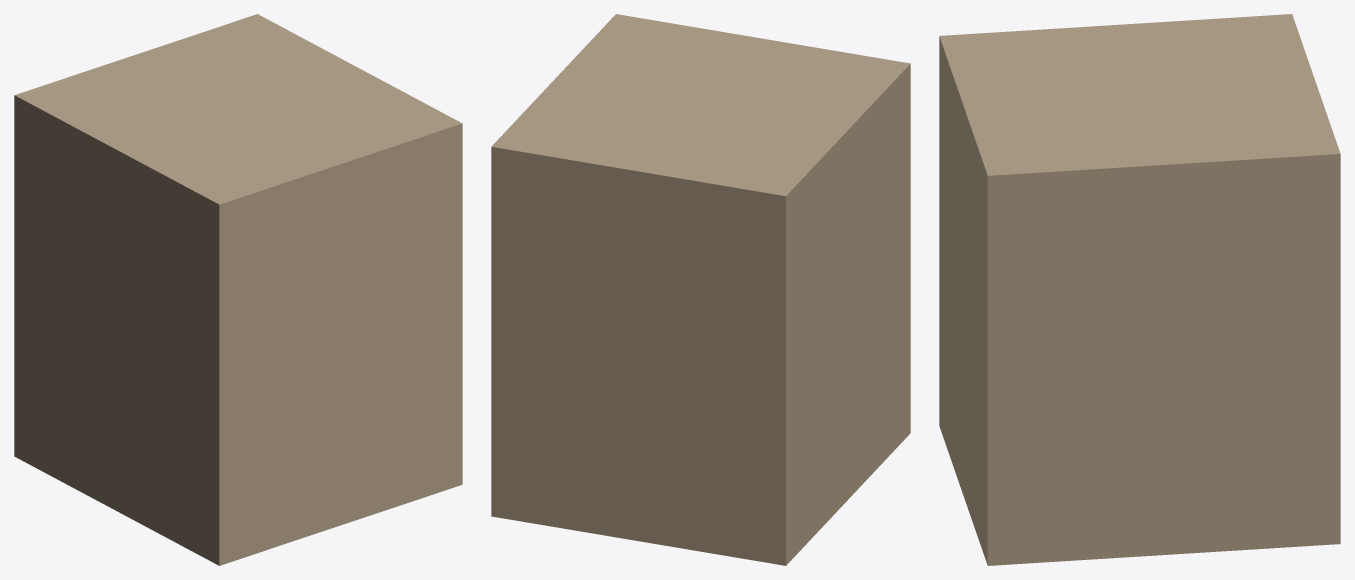
File: bld_158045425.dae
3 renders of one model, left to right at view 1: azimuth 30°, elevation 25°; view 2: azimuth 150°, elevation 25°; view 3: azimuth 270°, elevation 25°, orthographic. The views are drawn at different scales.
Visible parts, largest first — view 1: bld_158045425; view 2: bld_158045425; view 3: bld_158045425.
Part boxes in pixels (x1=…): bld_158045425: x1=14, y1=14, x2=462, y2=565; bld_158045425: x1=491, y1=14, x2=910, y2=565; bld_158045425: x1=939, y1=14, x2=1340, y2=565.
Bounding box in the file's own units: 7.12 × 7.46 × 8.
